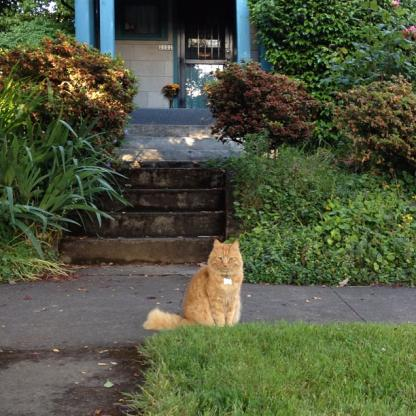Target: (142, 240, 258, 330)
